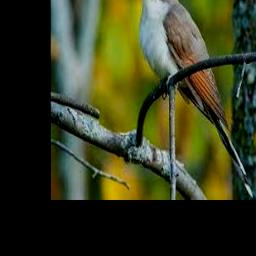Cuckoo: (138, 0, 255, 200)
